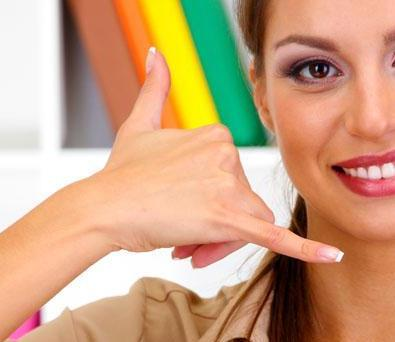clockwise: (96, 39, 348, 281)
